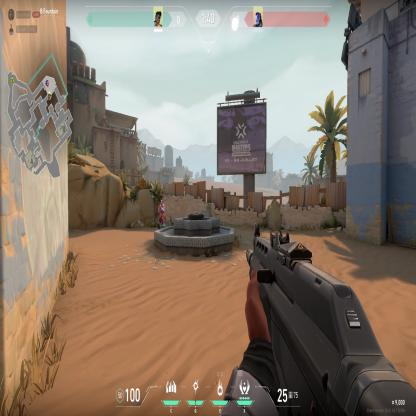enemy: (156, 198, 166, 228)
